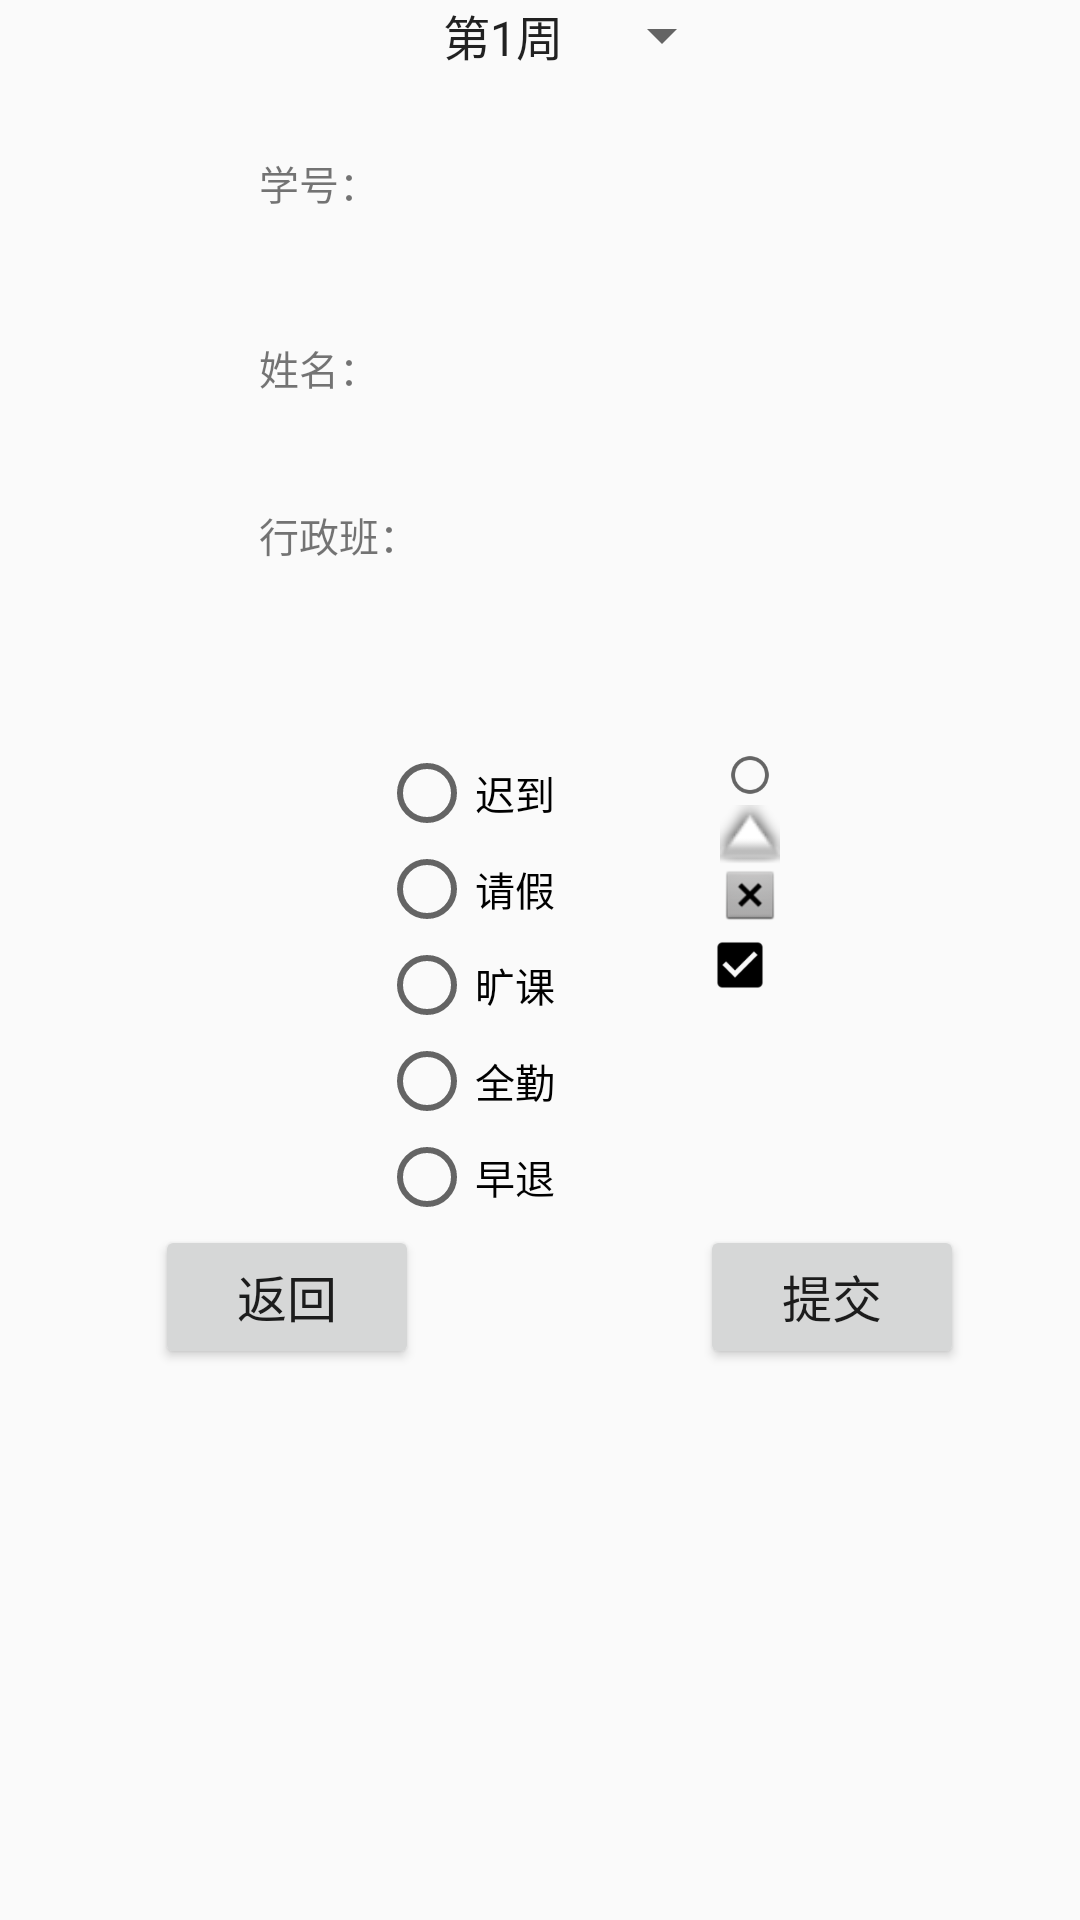

Icons on this 1080px×1920px Android screen, each with its box as detection(x1, y1, x2, y2):
arrow up float: detection(720, 807, 780, 862)
